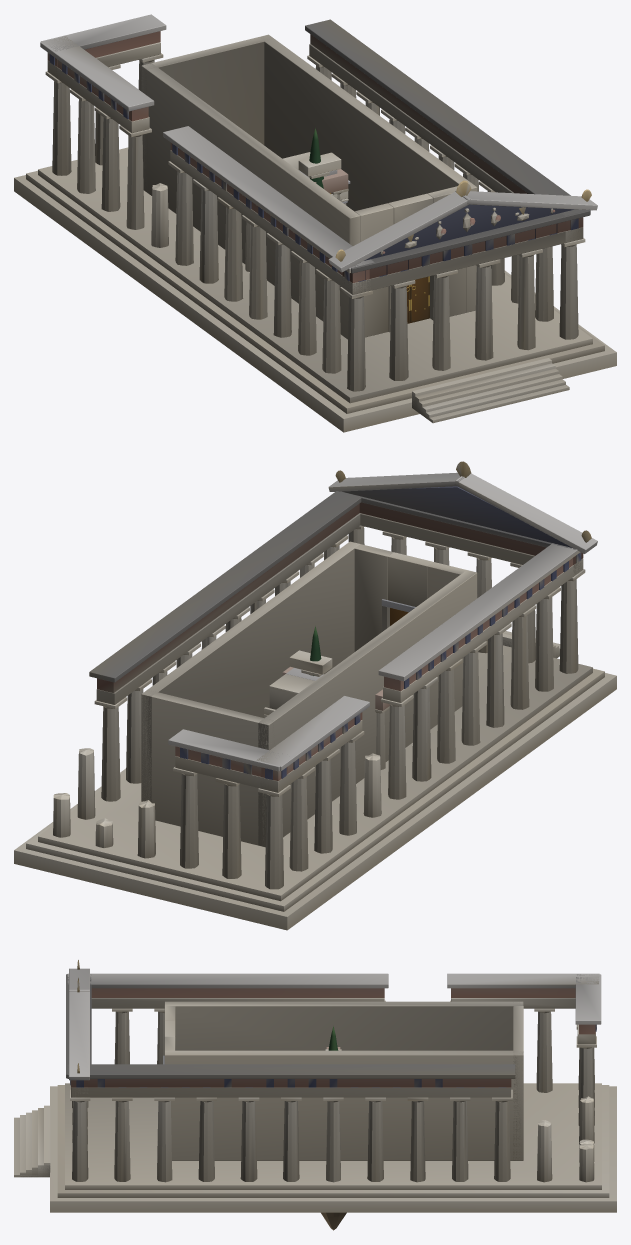
Rendered from antike.glb.
The picture shows the model from 3 angles, top to bottom: view 1: azimuth 30°, elevation 25°; view 2: azimuth 150°, elevation 25°; view 3: azimuth 270°, elevation 25°; orthographic projection. The views are drawn at different scales.
Visible parts, largest first — view 1: tempel1_stein, tempel1_tuer, saeulengang1_stein, saeule1_stein; view 2: tempel1_stein, kolonnade1_stein, saeulengang1_stein, saeule1_stein; view 3: tempel1_stein.
Boxes of the visible parts, x1,y1,x2,y2 form: tempel1_stein: (14,14,616,432); tempel1_tuer: (406,276,429,323); saeulengang1_stein: (245,169,348,271); saeule1_stein: (298,152,341,178); tempel1_stein: (14,461,616,930); kolonnade1_stein: (269,668,323,694); saeulengang1_stein: (282,667,389,769); saeule1_stein: (289,650,332,676); tempel1_stein: (14,960,616,1212).
Size of the model in its own units: 18 by 18.5 by 39.99.
